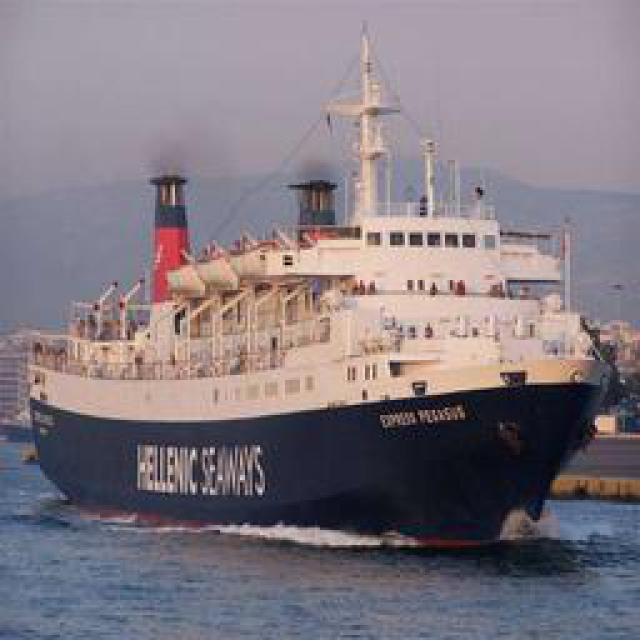Ship: (25, 96, 613, 536)
